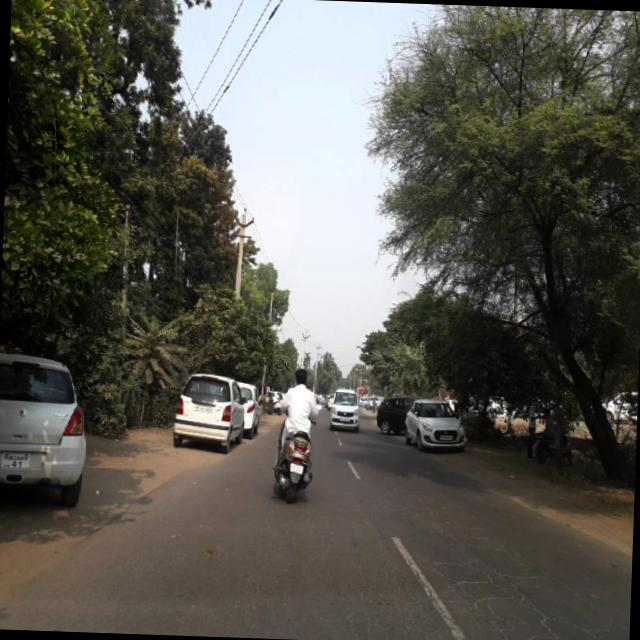crack: (335, 541, 597, 640)
